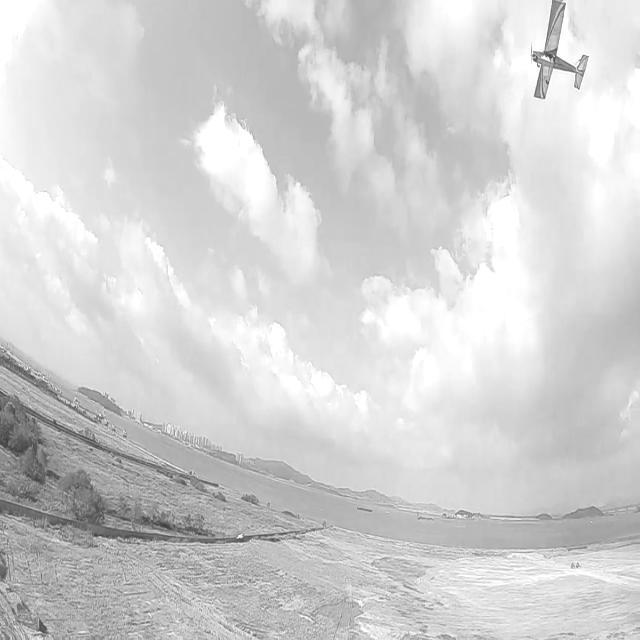iha: (527, 32, 590, 76)
